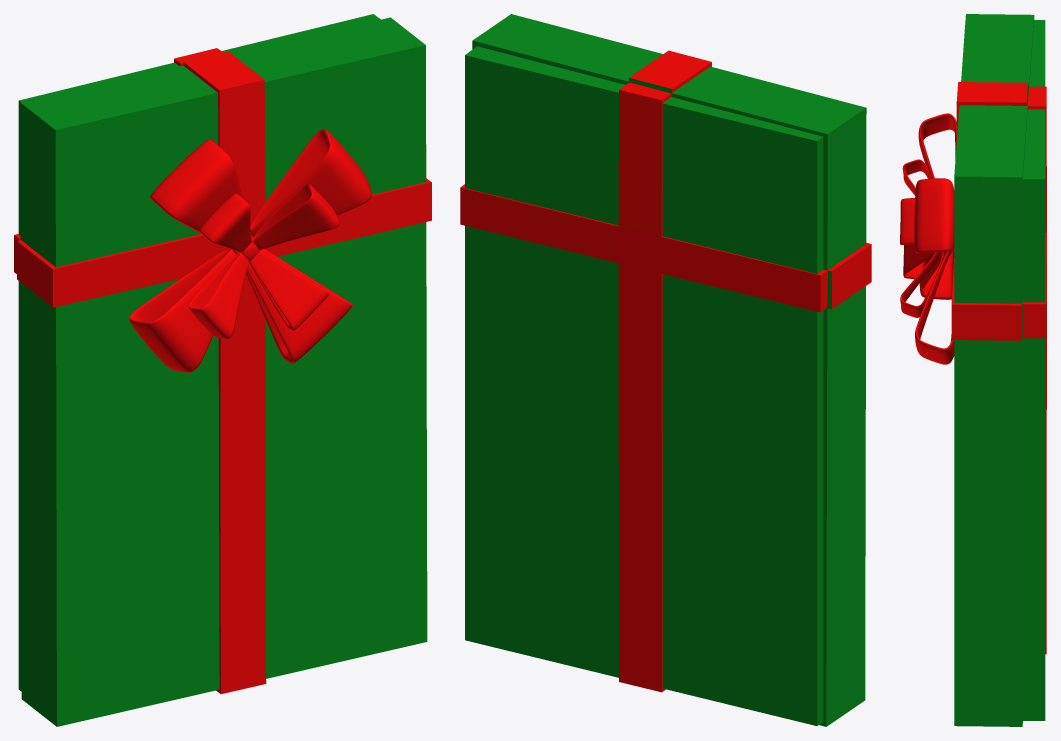
The model's file is gift.glb.
3 renders of one model, left to right at view 1: azimuth 30°, elevation 25°; view 2: azimuth 150°, elevation 25°; view 3: azimuth 270°, elevation 25°, orthographic. The views are drawn at different scales.
Visible parts, largest first — view 1: Cube.011, Cube.013, Cube.012; view 2: Cube.012, Cube.011; view 3: Cube.011, Cube.012, Cube.013.
Part boxes in pixels (<box>): Cube.011: <box>17,17,431,726</box>; Cube.013: <box>129,129,371,372</box>; Cube.012: <box>14,14,380,691</box>; Cube.012: <box>460,46,827,725</box>; Cube.011: <box>472,14,871,726</box>; Cube.011: <box>951,14,1034,726</box>; Cube.012: <box>1022,20,1046,720</box>; Cube.013: <box>900,113,956,364</box>.
Size of the model in its own units: 0.8575 by 1.32 by 0.317.
